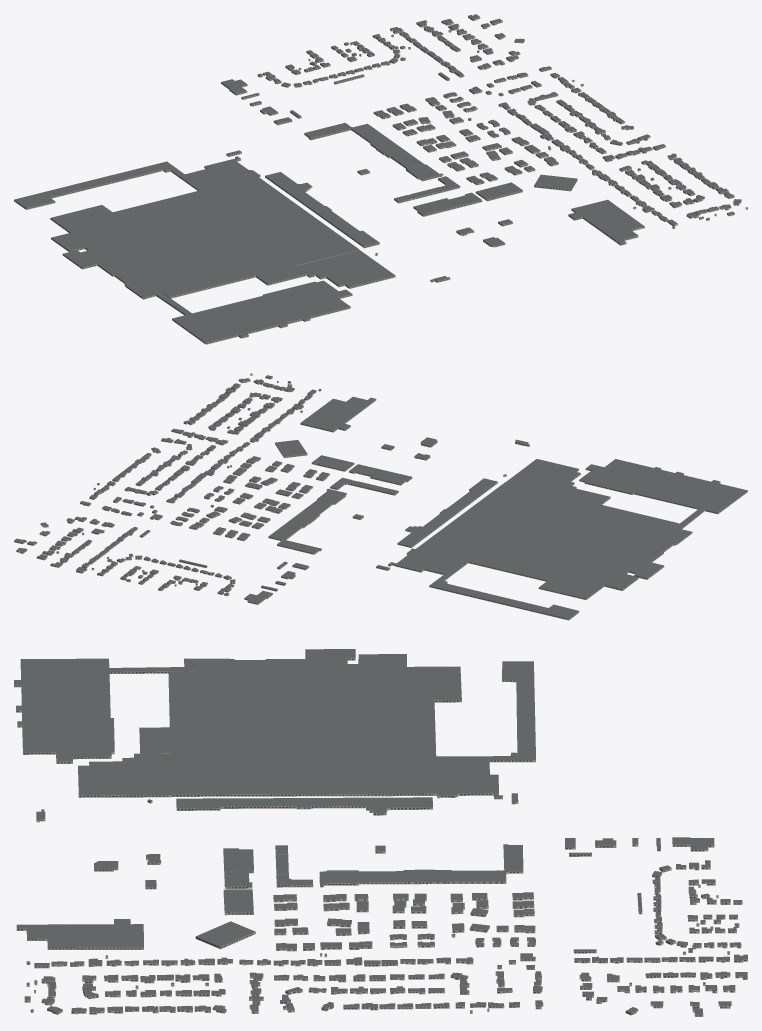
The picture shows the model from 3 angles, top to bottom: view 1: azimuth 30°, elevation 25°; view 2: azimuth 150°, elevation 25°; view 3: azimuth 270°, elevation 25°; orthographic projection. The views are drawn at different scales.
Visible parts, largest first — view 1: Buildings (-1, -7) Roof membrane, Buildings (-1, -7) Masonry brick, Buildings (-1, -7) Architectural tinted glass; view 2: Buildings (-1, -7) Roof membrane, Buildings (-1, -7) Masonry brick, Buildings (-1, -7) Architectural tinted glass; view 3: Buildings (-1, -7) Roof membrane, Buildings (-1, -7) Masonry brick, Buildings (-1, -7) Architectural tinted glass, Buildings (-1, -7) Metal coping.
Part boxes in pixels (box(x1,y1,x2,y2)): Buildings (-1, -7) Roof membrane: box(14, 14, 747, 342); Buildings (-1, -7) Masonry brick: box(14, 15, 747, 344); Buildings (-1, -7) Architectural tinted glass: box(14, 17, 739, 343); Buildings (-1, -7) Roof membrane: box(14, 373, 747, 618); Buildings (-1, -7) Masonry brick: box(14, 374, 747, 620); Buildings (-1, -7) Architectural tinted glass: box(14, 377, 747, 619); Buildings (-1, -7) Roof membrane: box(14, 649, 747, 1014); Buildings (-1, -7) Masonry brick: box(14, 658, 747, 1016); Buildings (-1, -7) Architectural tinted glass: box(14, 659, 747, 1016); Buildings (-1, -7) Metal coping: box(16, 649, 747, 1013).
Size of the model in its own units: 1196 by 5.63 by 1016.
